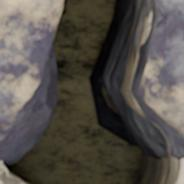broken_brick: (0, 0, 58, 161), (141, 0, 183, 158)
crack: (1, 0, 181, 183)
